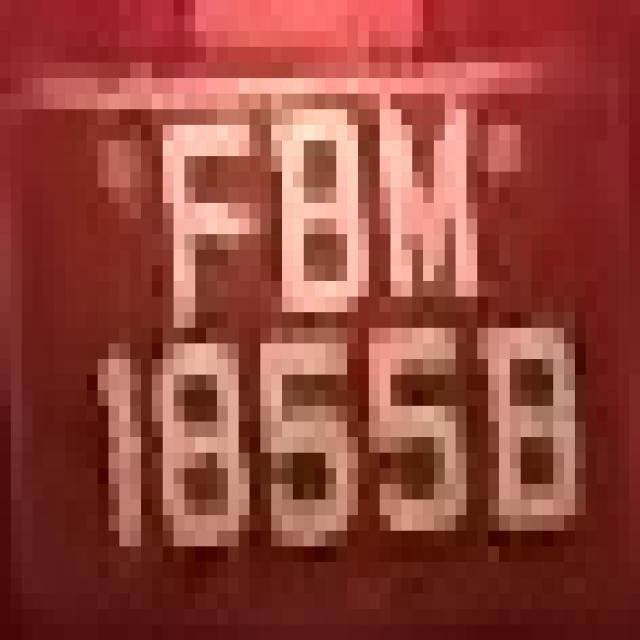1: (87, 296, 152, 608)
5: (336, 266, 456, 578), (228, 281, 347, 562)
8: (120, 281, 250, 609)
B: (217, 62, 380, 328), (444, 265, 596, 531)
F: (120, 78, 260, 328)
M: (336, 94, 532, 359)
